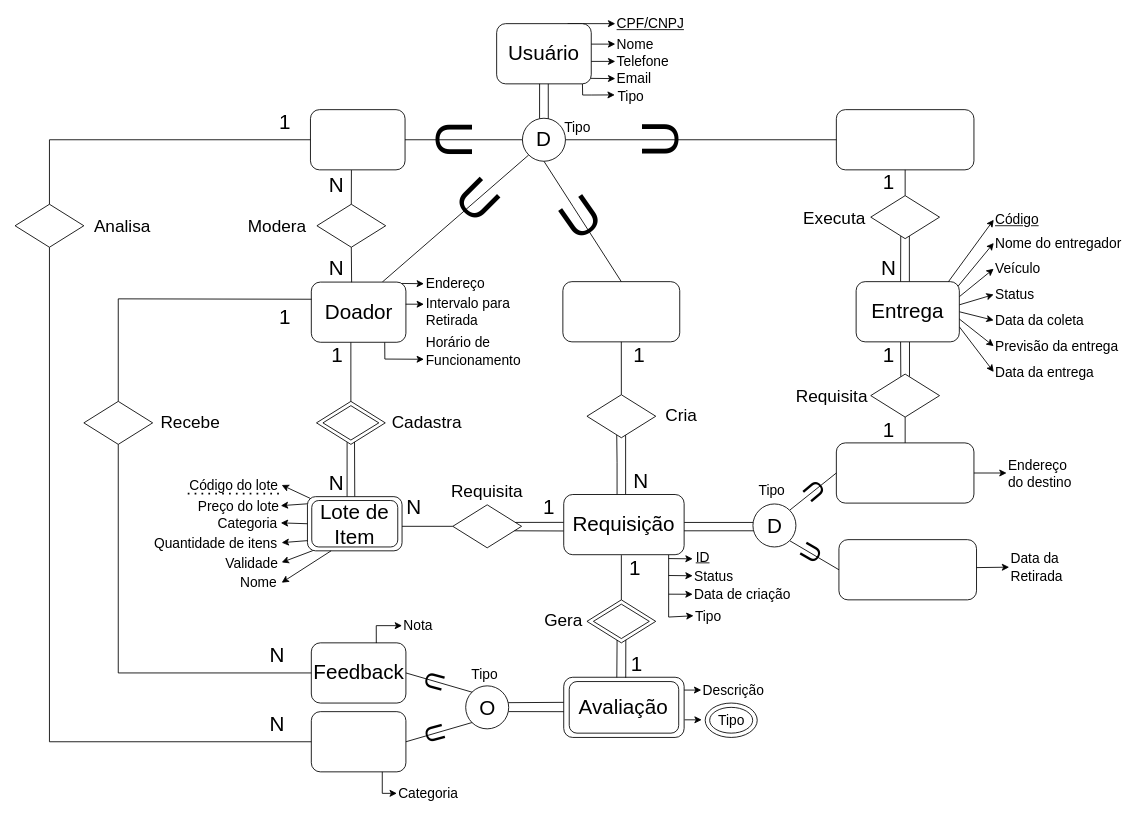
Some shapes in this 1138 by 820 pixel diagram are drawn without their labels. Each missing label, with the centre of its shape:
Admin: the point at 357,139
Beneficiário: the point at 621,311
Denúncia: the point at 358,741
Requisição de entrega: the point at 904,472
Requisição de retirada: the point at 907,569
Transportador: the point at 904,139
